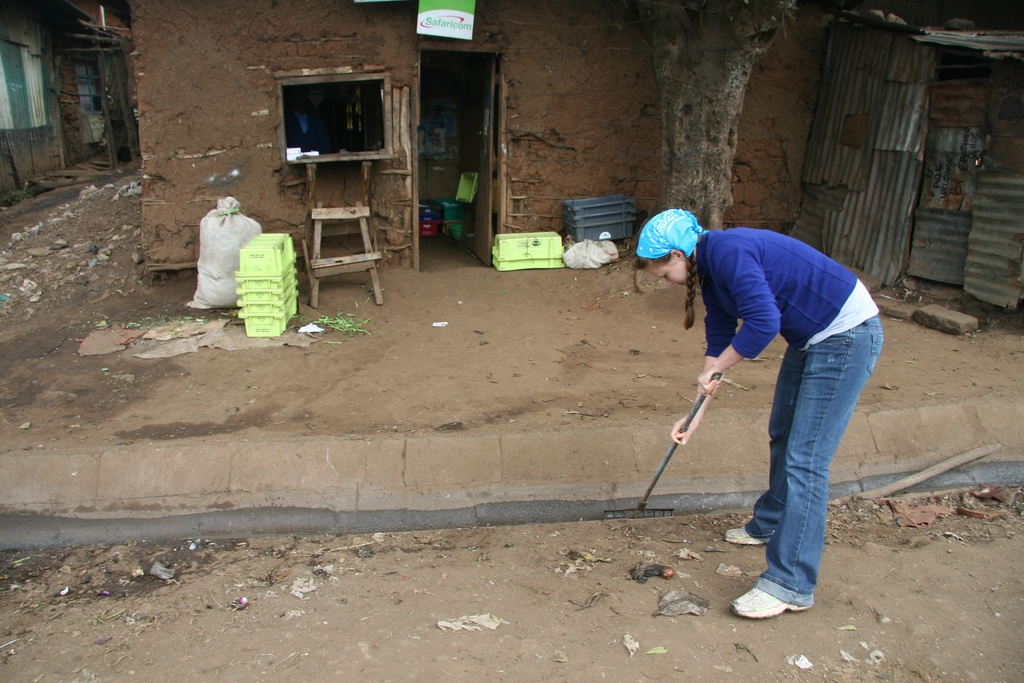Person: (631, 208, 882, 619)
